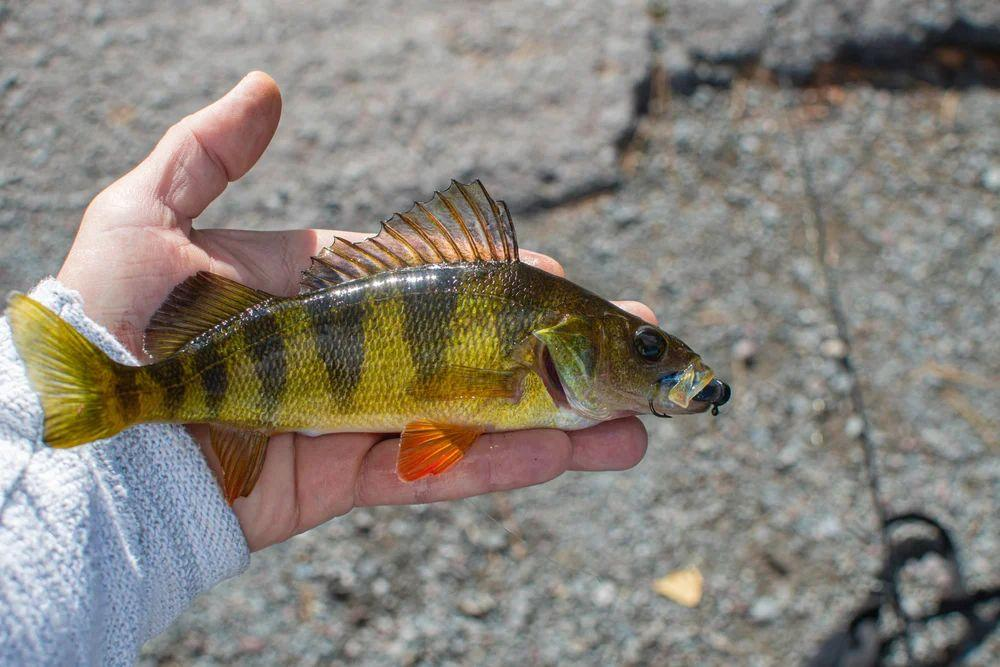Perch: (11, 173, 734, 502)
